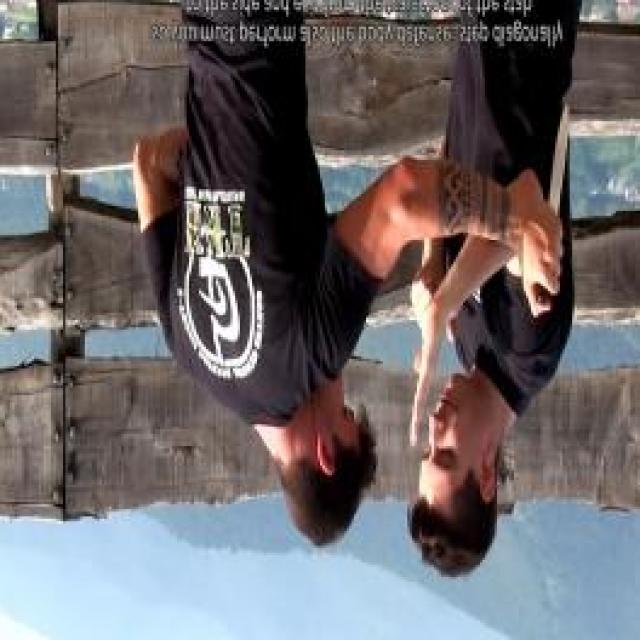knife: (521, 101, 576, 320)
